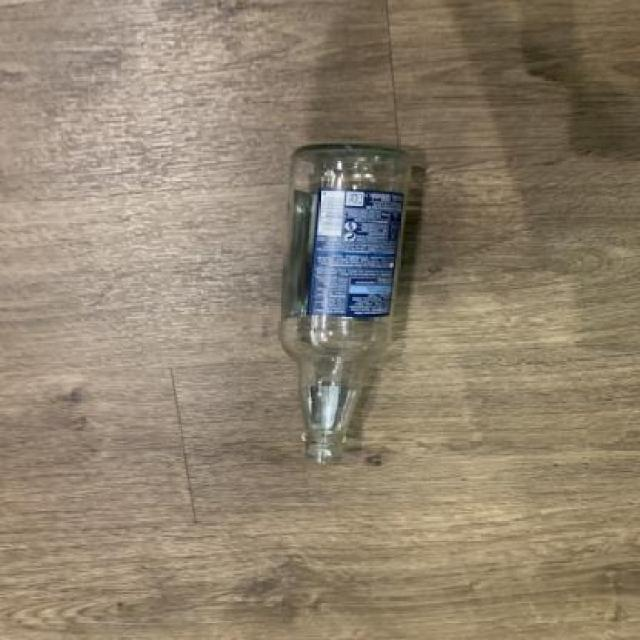trash: (275, 139, 416, 476)
